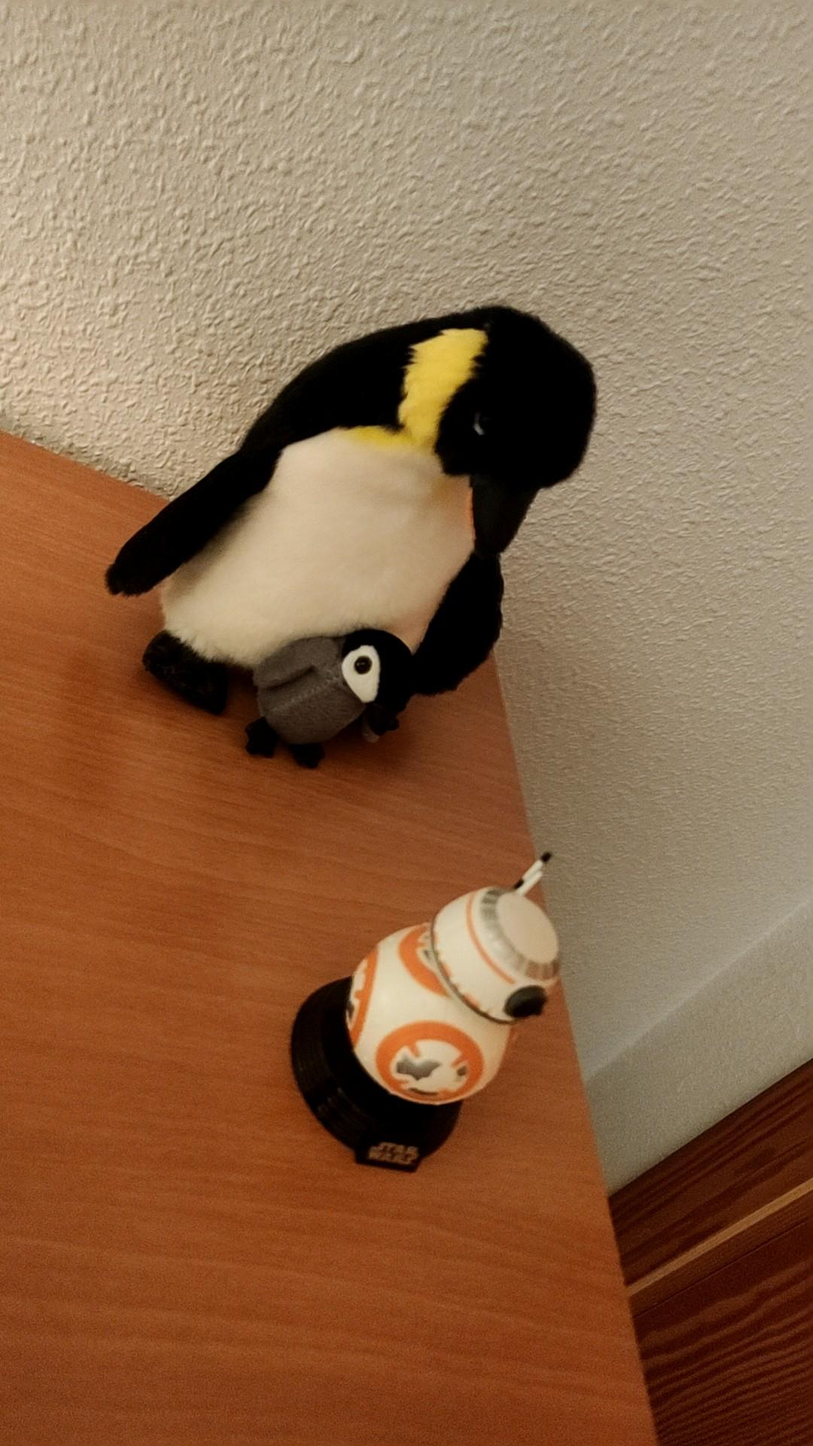toy: (107, 307, 595, 767), (291, 863, 557, 1167)
